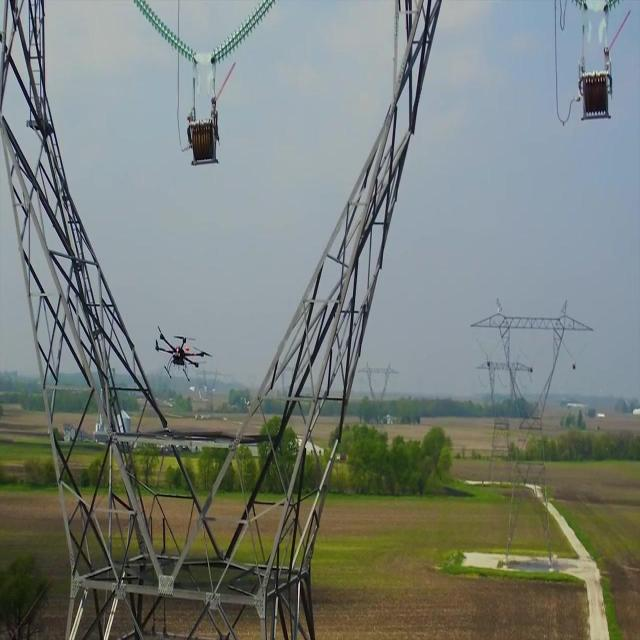drone: (154, 326, 212, 386)
